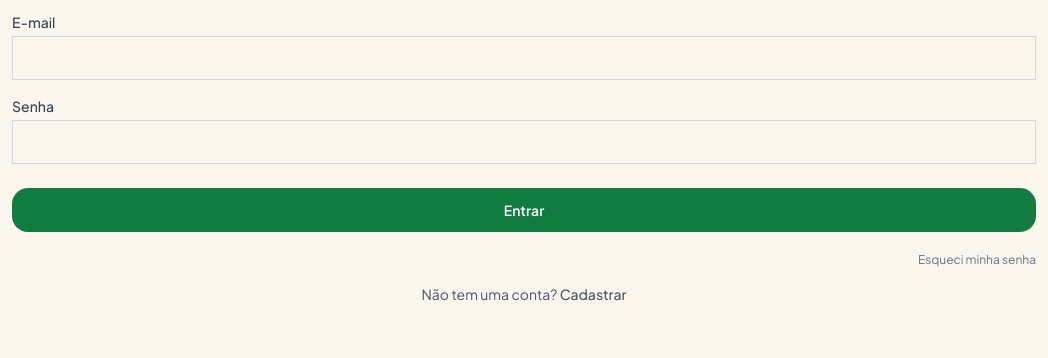
Test: LoginForm › should show validation error for invalid email
The image size is (1048, 358).
In the field labelled "E-mail": (524, 58) [12,36,1036,80], type "not-an-email"
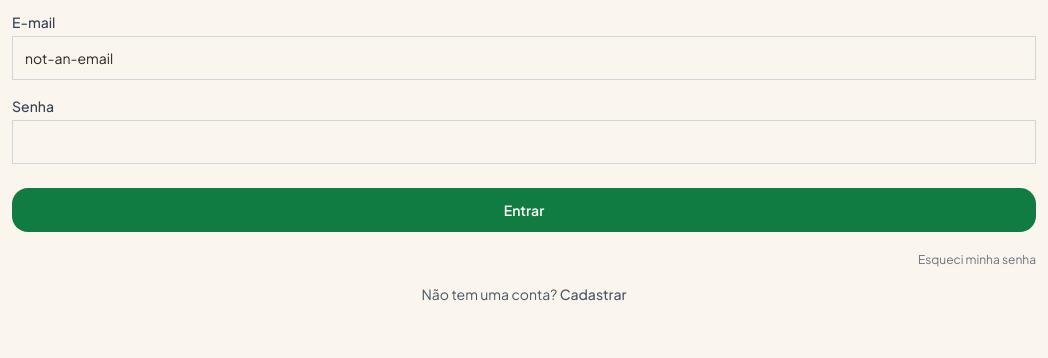
Click the button "Entrar": (524, 210) [12,188,1036,232]
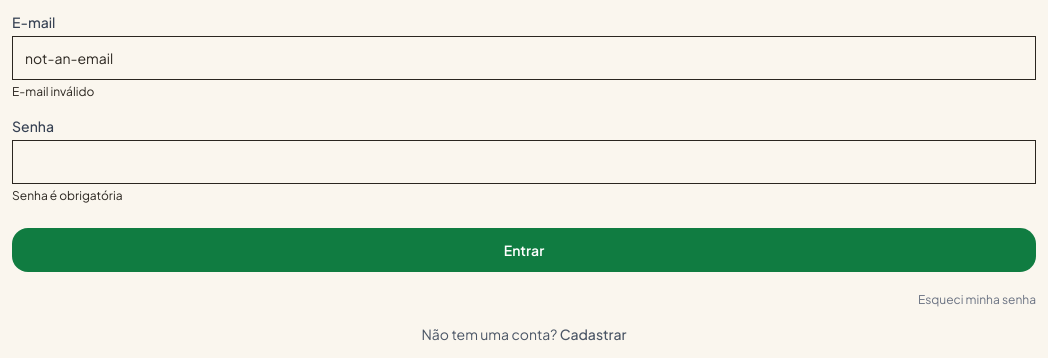
Now the text "E-mail inválido" is shown, box [12,84,94,99]
